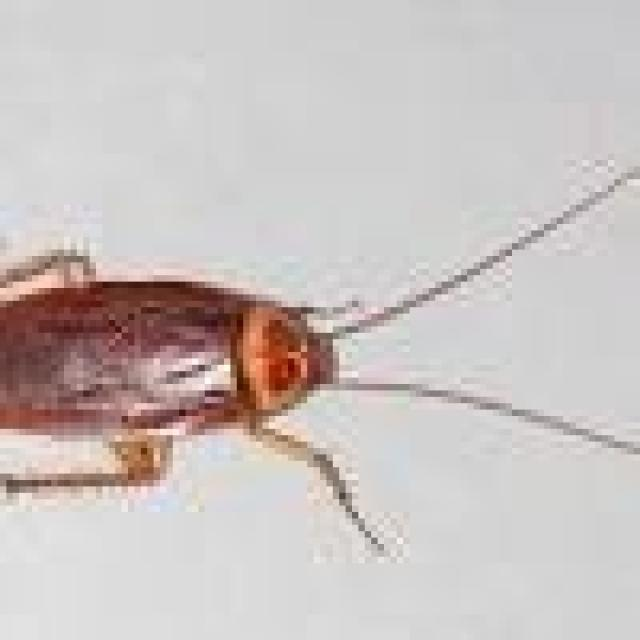Cockroach: (0, 179, 448, 557)
